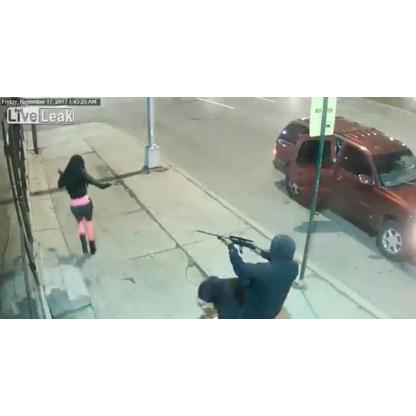gun: (198, 225, 260, 255)
